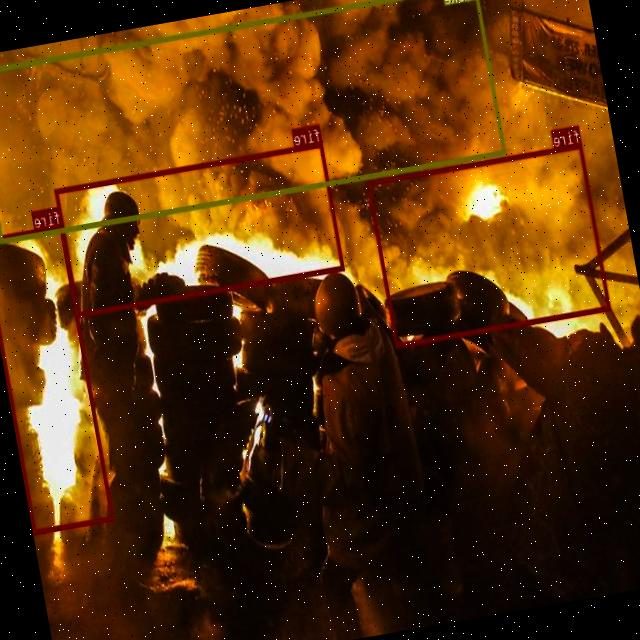fire: (54, 141, 344, 315), (366, 142, 612, 347), (0, 222, 115, 532)
smoke: (0, 0, 507, 242)
